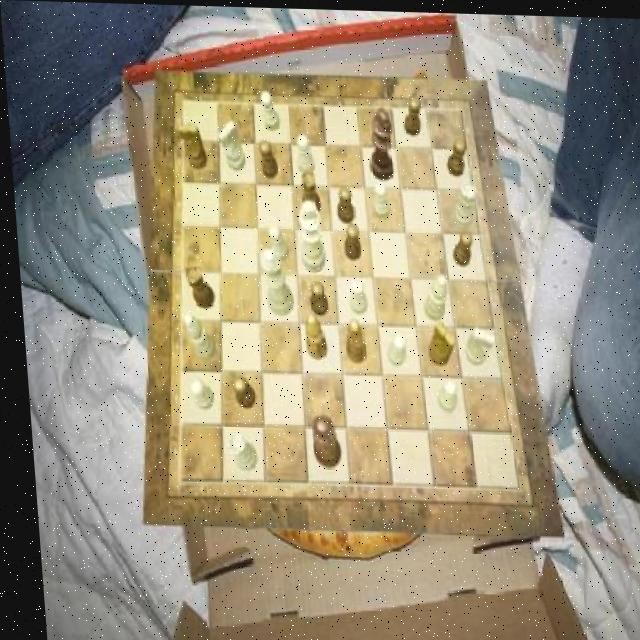bishop: (299, 313, 323, 359), (340, 317, 362, 363)
black-bishop: (366, 105, 395, 180)
black-king: (423, 319, 453, 365), (176, 121, 205, 168)
black-knight: (444, 136, 467, 175), (400, 94, 420, 134), (450, 229, 472, 265), (228, 376, 250, 409), (340, 220, 359, 258), (257, 138, 276, 176), (305, 279, 325, 314), (333, 186, 352, 222)
black-pawn: (305, 413, 336, 467)
black-queen: (181, 265, 211, 308), (297, 168, 319, 215)
black-rook: (180, 313, 212, 360), (419, 272, 446, 319)
white-bishop: (294, 199, 322, 272)
white-king: (216, 118, 243, 170), (458, 325, 493, 364)
white-knight: (259, 90, 279, 131), (185, 377, 210, 409), (293, 133, 313, 173), (265, 223, 286, 259), (432, 376, 454, 410), (382, 330, 404, 364), (345, 277, 364, 312), (370, 179, 387, 217)
white-pawn: (257, 247, 292, 316)
white-queen: (449, 180, 476, 226), (222, 431, 252, 469)
